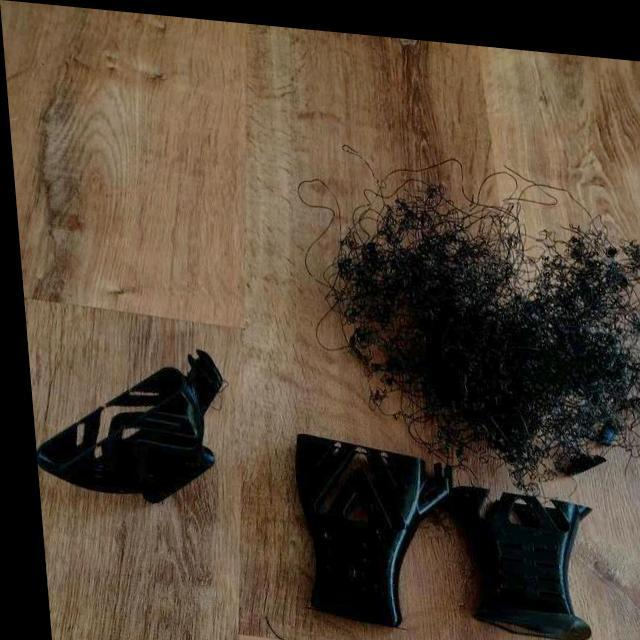spaghetti: (409, 257, 638, 447), (368, 178, 507, 270), (322, 237, 418, 368), (550, 218, 638, 277)
